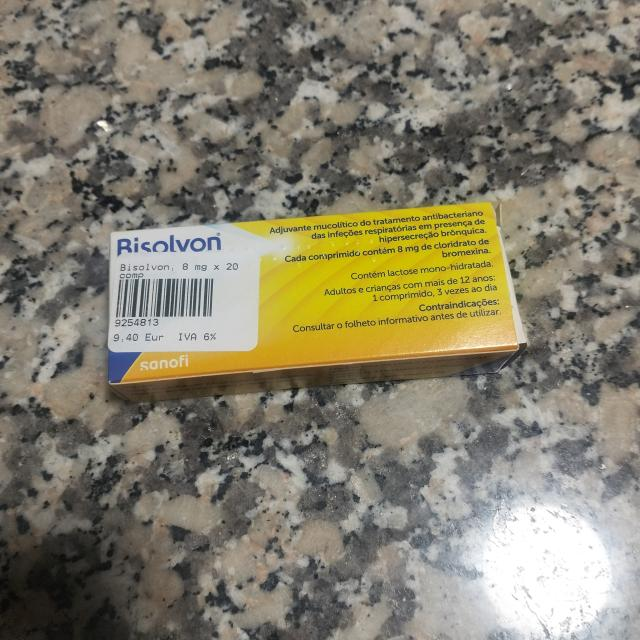box: (102, 200, 531, 407)
